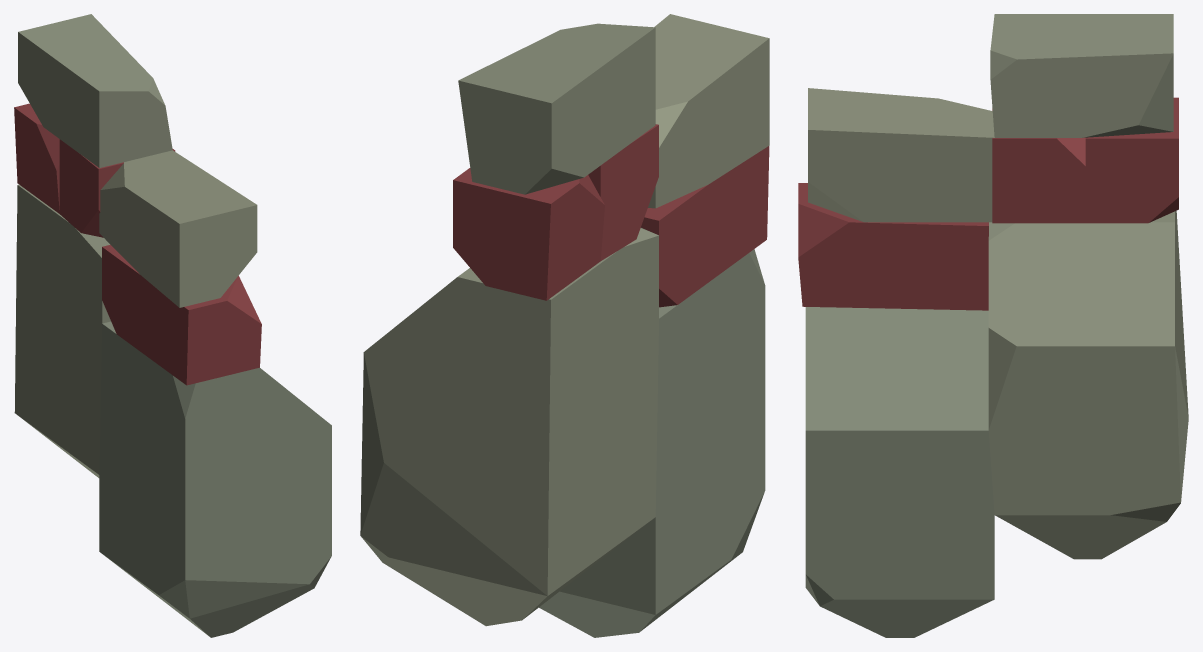
File: stair_long_straight_railing_half_right.fbx
The picture shows the model from 3 angles, left to right: view 1: azimuth 30°, elevation 25°; view 2: azimuth 150°, elevation 25°; view 3: azimuth 270°, elevation 25°; orthographic projection. The views are drawn at different scales.
Parts seen in each view (by area): view 1: stair_long_straight_railing_half_right; view 2: stair_long_straight_railing_half_right; view 3: stair_long_straight_railing_half_right.
Boxes of the visible parts, x1,y1,x2,y2 form: stair_long_straight_railing_half_right: [14, 14, 331, 637]; stair_long_straight_railing_half_right: [360, 14, 769, 637]; stair_long_straight_railing_half_right: [798, 14, 1188, 637].
Bounding box in the file's own units: 51.53 × 171 × 105.
